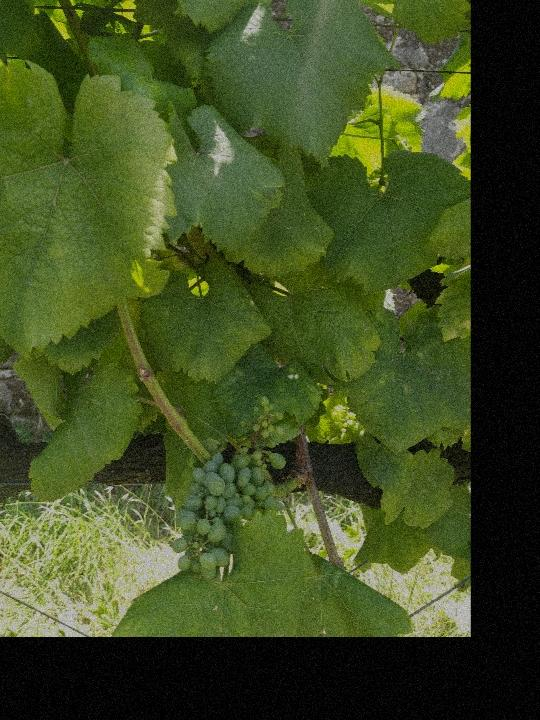grape: (170, 445, 283, 583)
